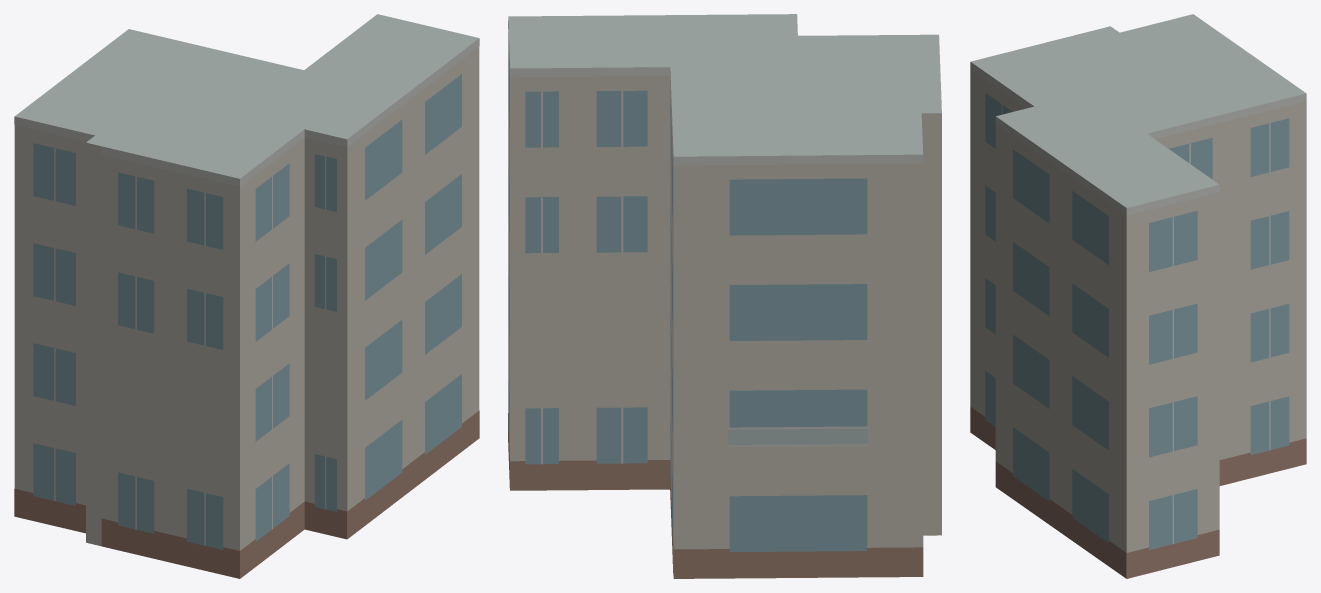
The model's file is survey-upis-32756859.glb.
3 views of the same model, side by side, from view 1: azimuth 30°, elevation 25°; view 2: azimuth 150°, elevation 25°; view 3: azimuth 270°, elevation 25° (orthographic). The views are drawn at different scales.
Visible parts, largest first — view 1: survey-upis-32756859.tmp; view 2: survey-upis-32756859.tmp; view 3: survey-upis-32756859.tmp.
Boxes of the visible parts, x1=… form: survey-upis-32756859.tmp: x1=14, y1=14, x2=479, y2=578; survey-upis-32756859.tmp: x1=508, y1=14, x2=941, y2=578; survey-upis-32756859.tmp: x1=970, y1=14, x2=1306, y2=578.
Bounding box in the file's own units: 13.25 × 11.8 × 9.71.
